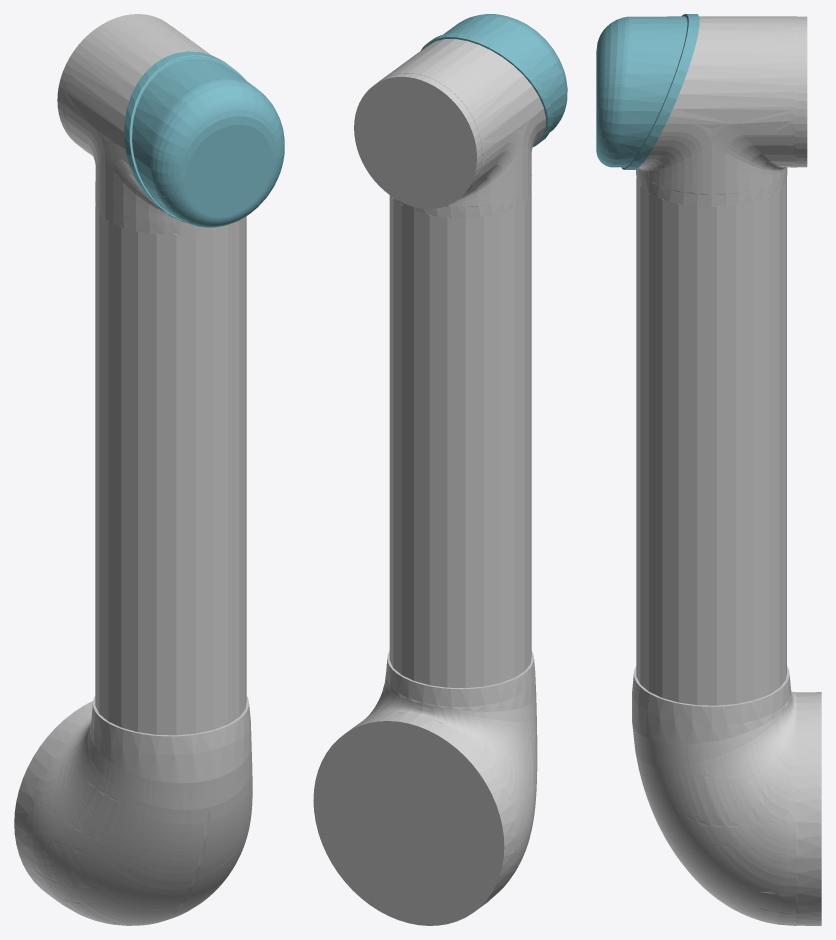
The model's file is forearm.dae.
3 views of the same model, side by side, from view 1: azimuth 30°, elevation 25°; view 2: azimuth 150°, elevation 25°; view 3: azimuth 270°, elevation 25° (orthographic). The views are drawn at different scales.
Visible parts, largest first — view 1: forearm; view 2: forearm; view 3: forearm.
Boxes of the visible parts, bbox=[...] form: forearm: bbox=[14, 14, 284, 925]; forearm: bbox=[313, 14, 567, 925]; forearm: bbox=[596, 14, 821, 925].
Size of the model in its own units: 0.116 by 0.1117 by 0.4892.
